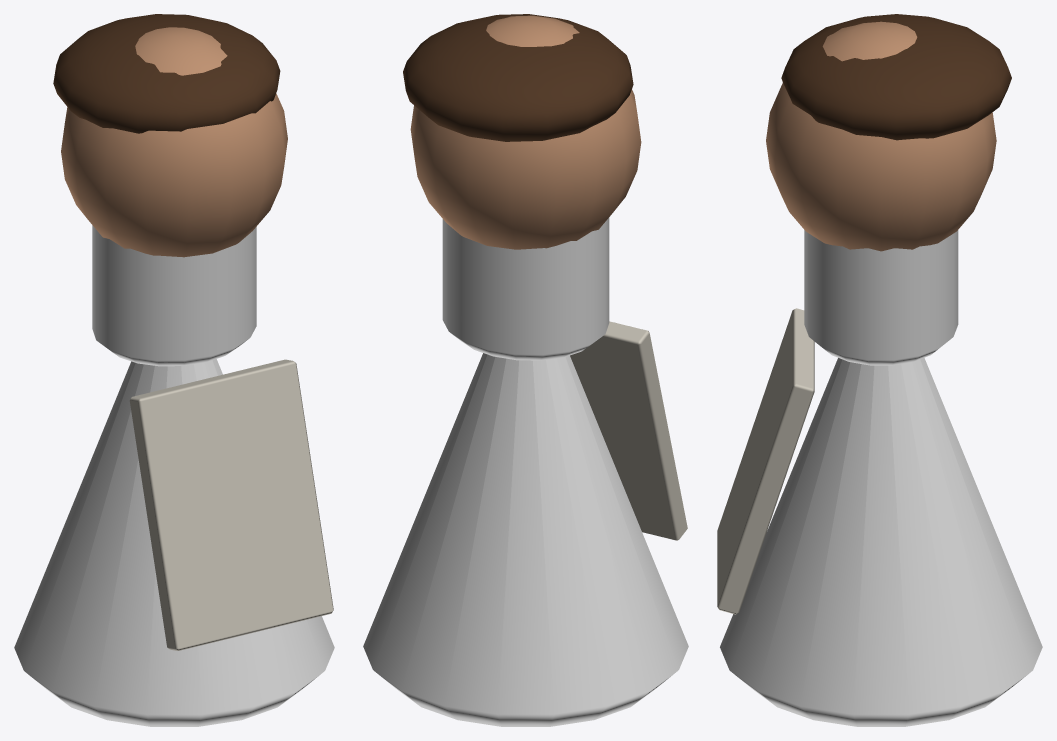
Rendered from villager.061edb88.glb.
The picture shows the model from 3 angles, left to right: view 1: azimuth 30°, elevation 25°; view 2: azimuth 150°, elevation 25°; view 3: azimuth 270°, elevation 25°; orthographic projection.
Visible parts, largest first — view 1: body, accent; view 2: accent, body; view 3: accent, body.
Boxes of the visible parts, box(x1,y1,x2,y2) form: body: box(53, 14, 333, 650); accent: box(14, 225, 334, 726); accent: box(363, 217, 688, 726); body: box(403, 14, 687, 540); accent: box(720, 230, 1042, 726); body: box(717, 14, 1011, 614).
Size of the model in its own units: 0.4136 by 0.9175 by 0.4234.
